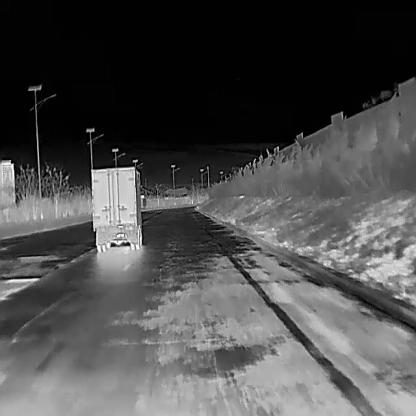truck: (90, 165, 146, 253)
